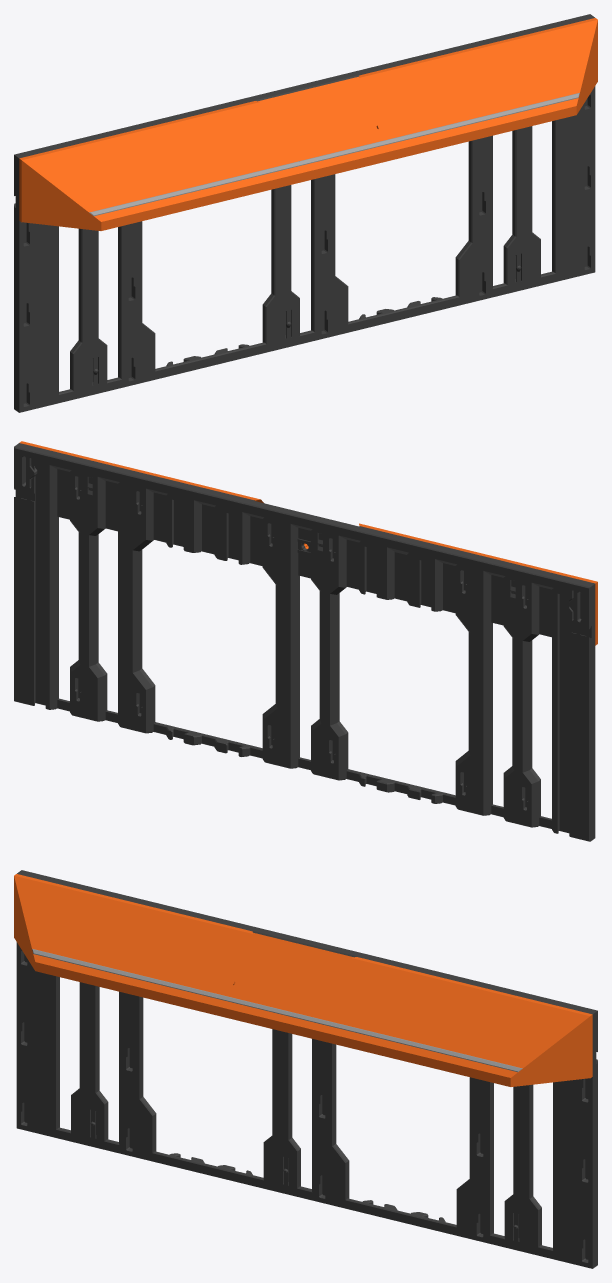
The model's file is Faceplate_ClassicPro_3W-2H.lib.glb.
The picture shows the model from 3 angles, top to bottom: view 1: azimuth 30°, elevation 25°; view 2: azimuth 150°, elevation 25°; view 3: azimuth 330°, elevation 25°; orthographic projection.
Visible parts, largest first — view 1: Faceplate_ClassicPro_3W-2H; view 2: Faceplate_ClassicPro_3W-2H; view 3: Faceplate_ClassicPro_3W-2H.
Boxes of the visible parts, box(x1,y1,x2,y2) form: Faceplate_ClassicPro_3W-2H: box(14, 14, 597, 412); Faceplate_ClassicPro_3W-2H: box(14, 441, 597, 841); Faceplate_ClassicPro_3W-2H: box(14, 870, 597, 1268).
Size of the model in its own units: 263 by 111 by 29.5.
